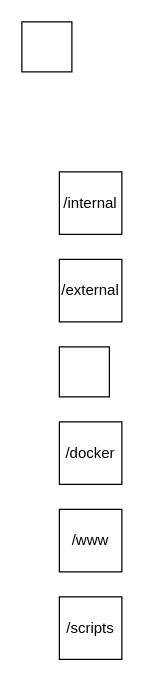
This 144x681 diagram has some shape labels left out. The shapes that lost their labels are listed below. From the top down, each one's centre as x and y in pixels, then its label:
(46,46): /api
(83,371): /json
